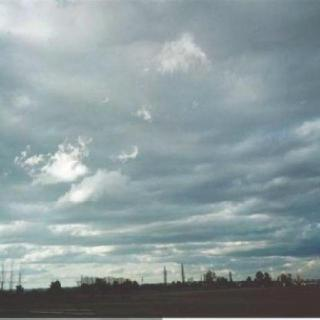Stratus: (0, 1, 320, 273)
